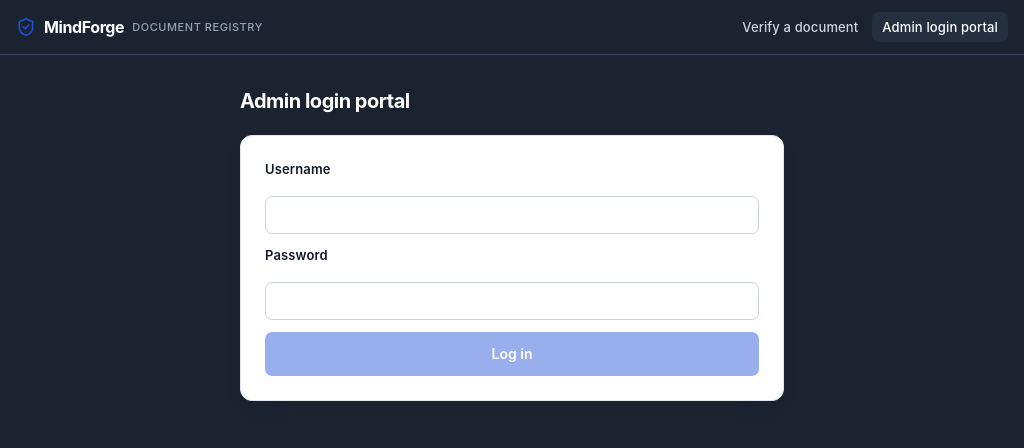
Test: routing and access › shows a wrong password plainly and clears nothing the server did not
This screenshot has width=1024, height=448.
Type "officer" into the field labelled "Username".
click(512, 215); type("officer")  # box [265,196,759,234]
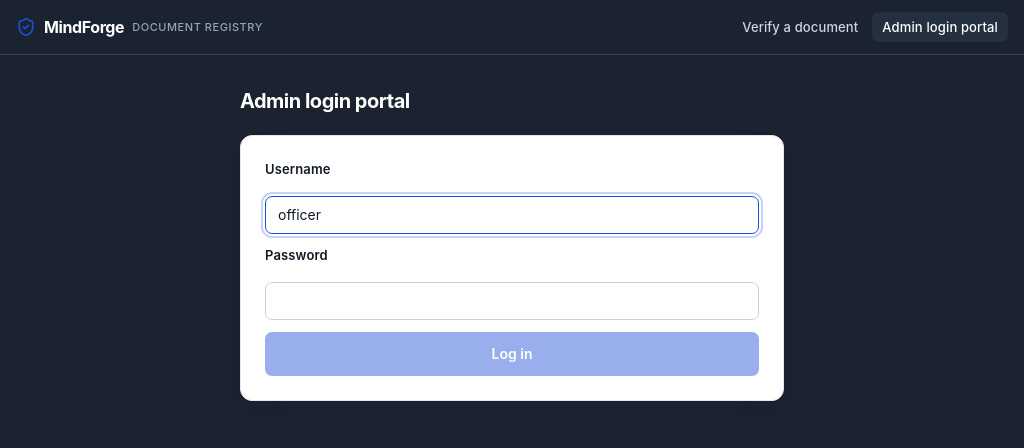
Type "correct horse" into the password field labelled "Password".
click(512, 301); type("correct horse")  # box [265,282,759,320]
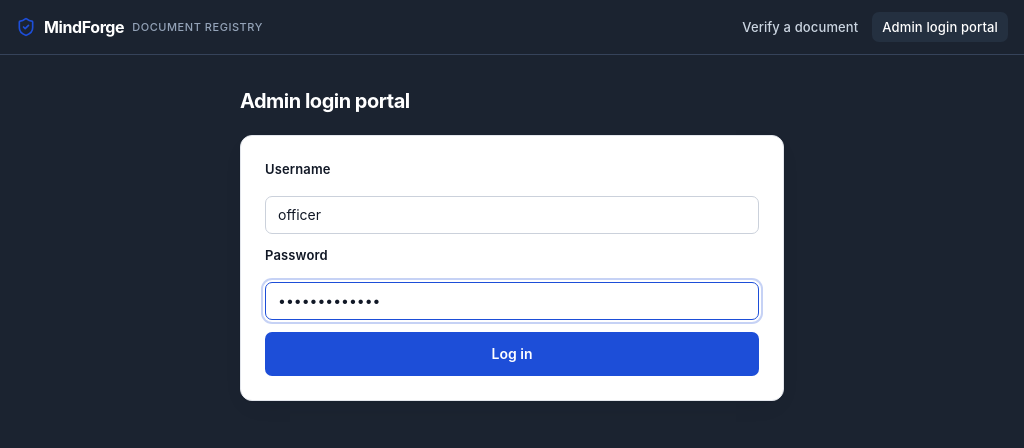
Click the button "Log in".
click(512, 354)  # box [265,332,759,376]
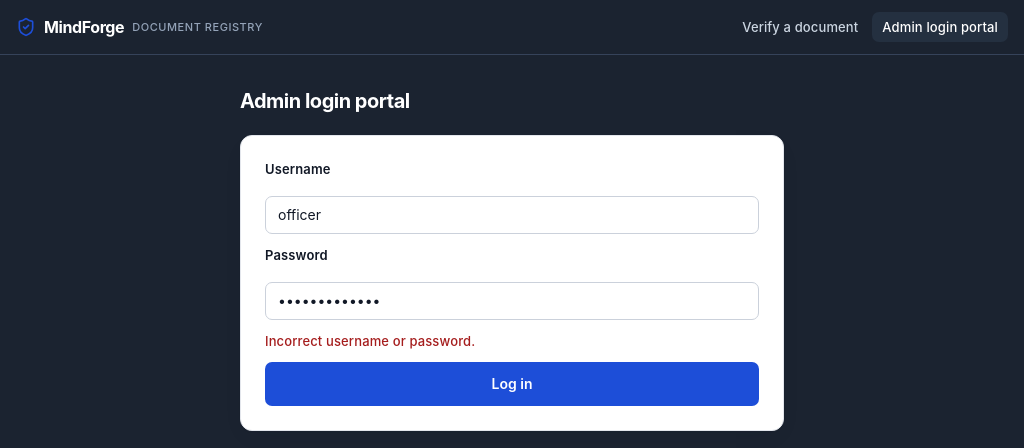
Expected: the heading "Admin login portal" is shown, [240,89,410,113]
Result: the message reads "Incorrect username or password." at [265,333,475,349]
